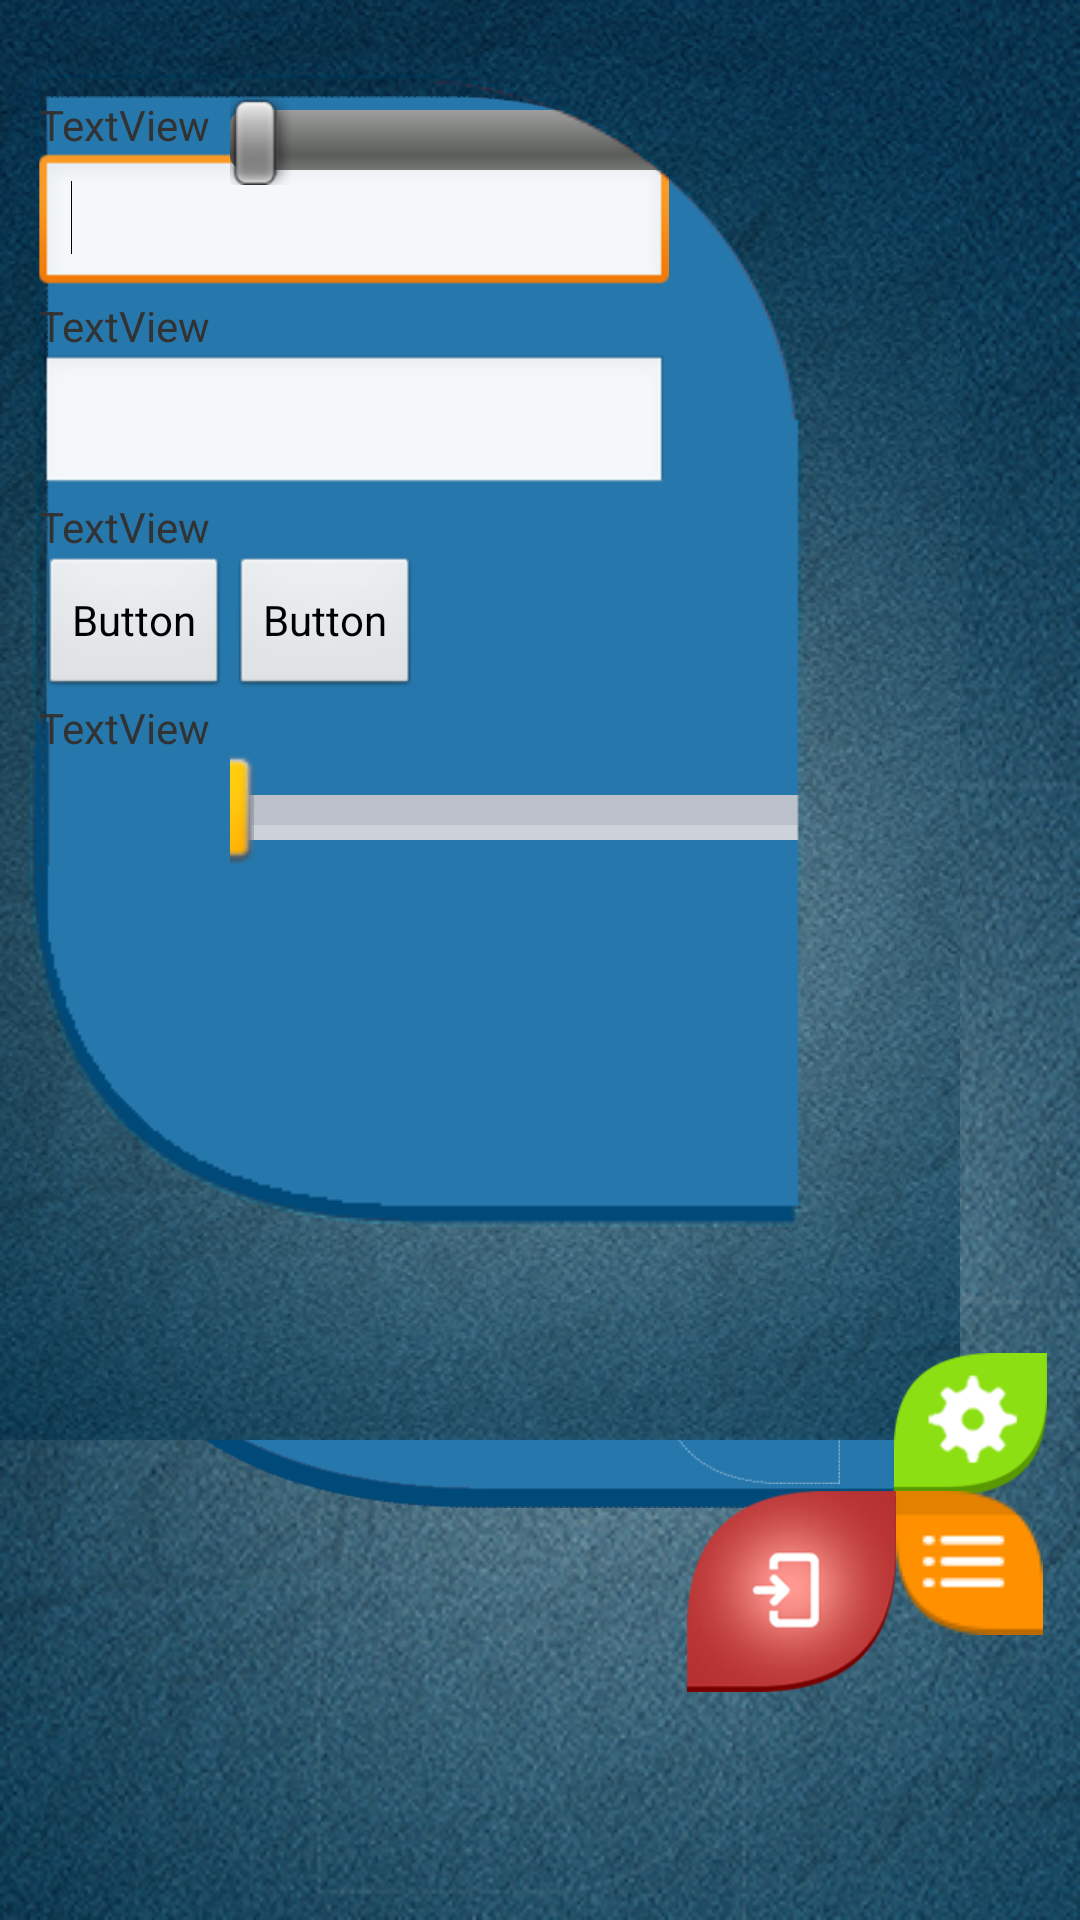

Screen size 1080 × 1920. Icon name, then its center in pixels as (x=x, y=y):
menu: (x=969, y=1563)
settings: (x=970, y=1424)
